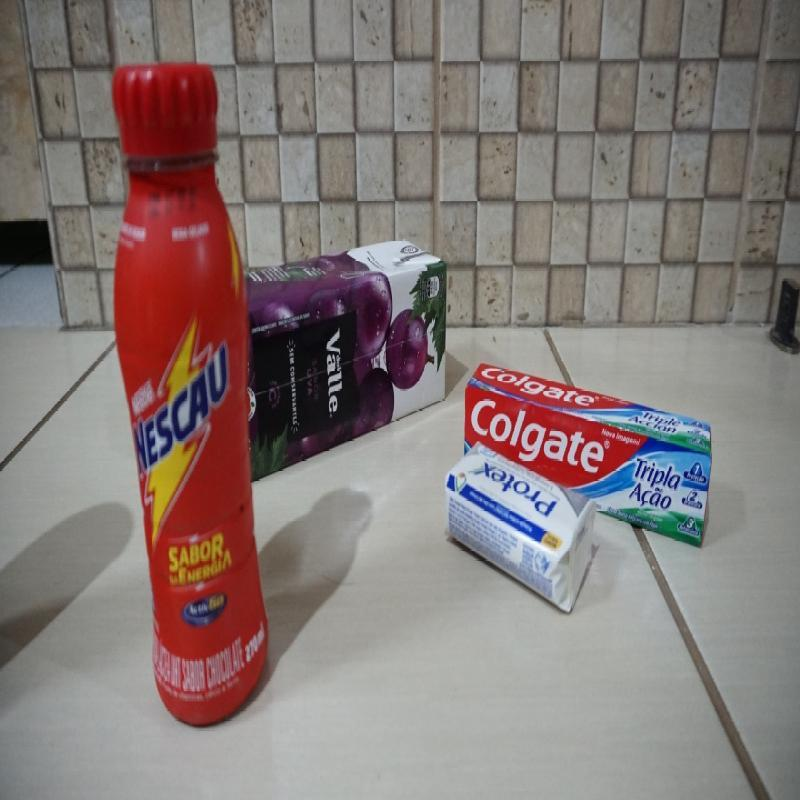Chocolate Milk: (109, 57, 272, 732)
Soap: (444, 440, 598, 616)
Toothpaste: (463, 360, 714, 550)
